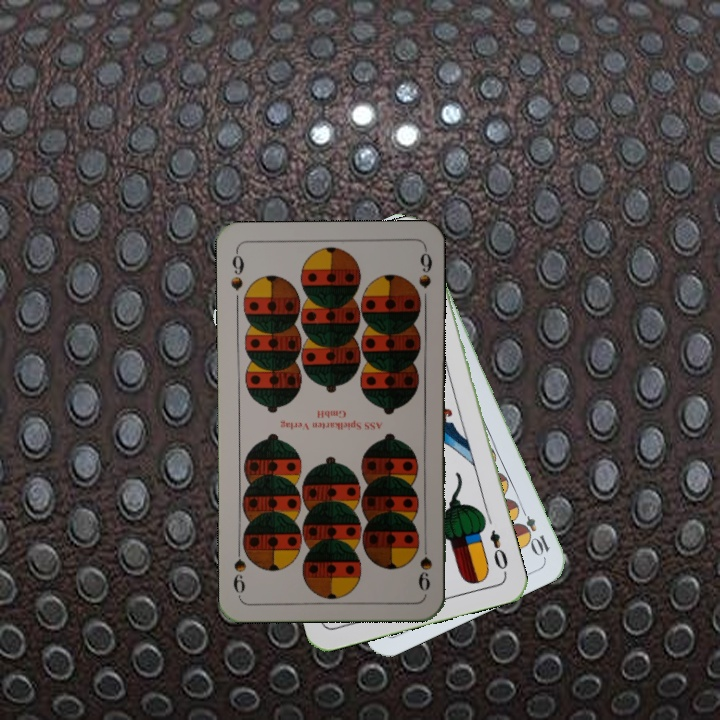E10: (514, 502, 552, 558)
EO: (486, 526, 511, 577)
S9: (414, 536, 434, 594), (226, 247, 246, 293)
